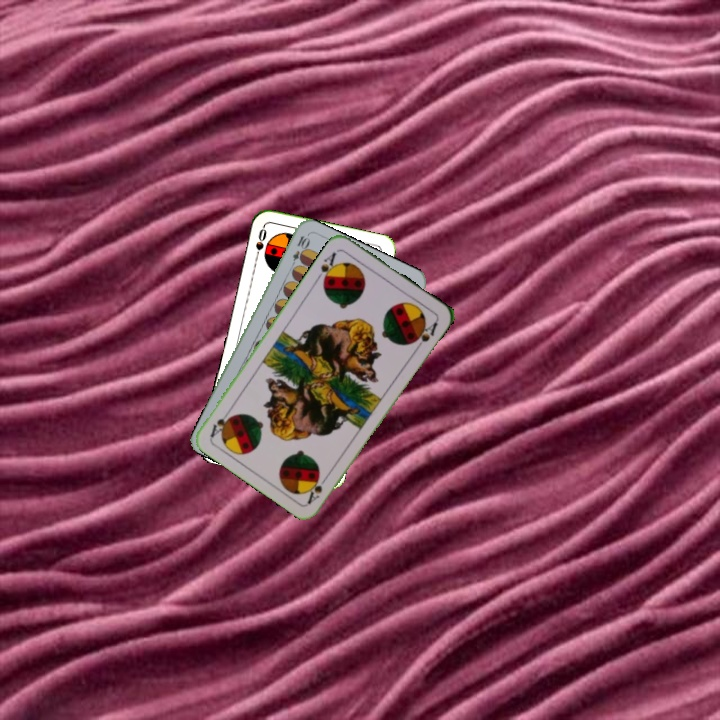E10: (287, 232, 311, 271)
SA: (312, 248, 340, 286), (303, 470, 331, 506)
SO: (251, 223, 269, 263)
